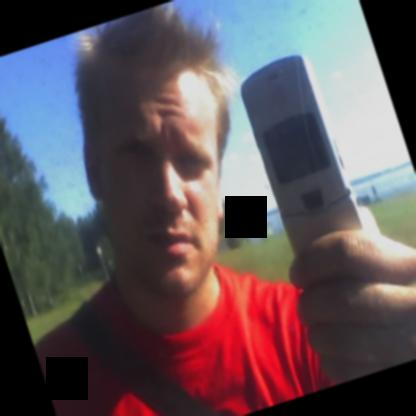handbag: (70, 302, 229, 416)
